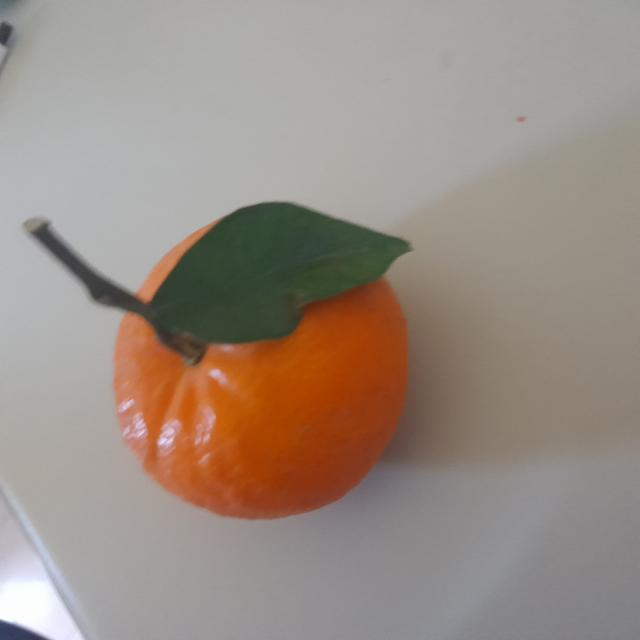Cam: (15, 171, 453, 556)
